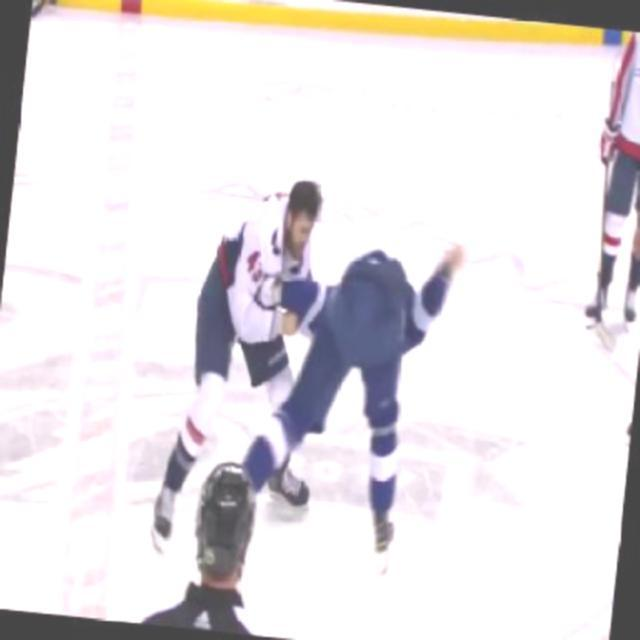fight: (168, 165, 472, 526)
non-fight: (582, 29, 638, 338)
